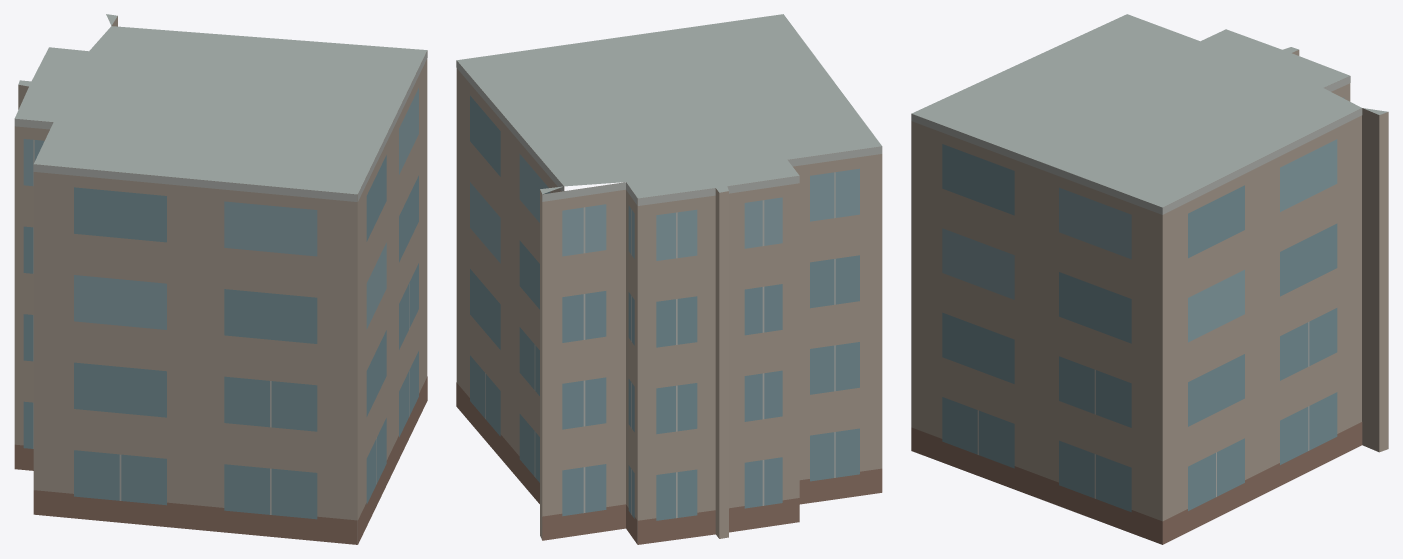
File: survey-upis-32525887.glb
3 views of the same model, side by side, from view 1: azimuth 30°, elevation 25°; view 2: azimuth 150°, elevation 25°; view 3: azimuth 270°, elevation 25° (orthographic). The views are drawn at different scales.
Parts seen in each view (by area): view 1: survey-upis-32525887.tmp; view 2: survey-upis-32525887.tmp; view 3: survey-upis-32525887.tmp.
Boxes of the visible parts, x1,y1,x2,y2 form: survey-upis-32525887.tmp: (14, 14, 427, 544); survey-upis-32525887.tmp: (456, 14, 882, 544); survey-upis-32525887.tmp: (911, 14, 1388, 544).
Bounding box in the file's own units: 13.72 × 11.14 × 14.29.
